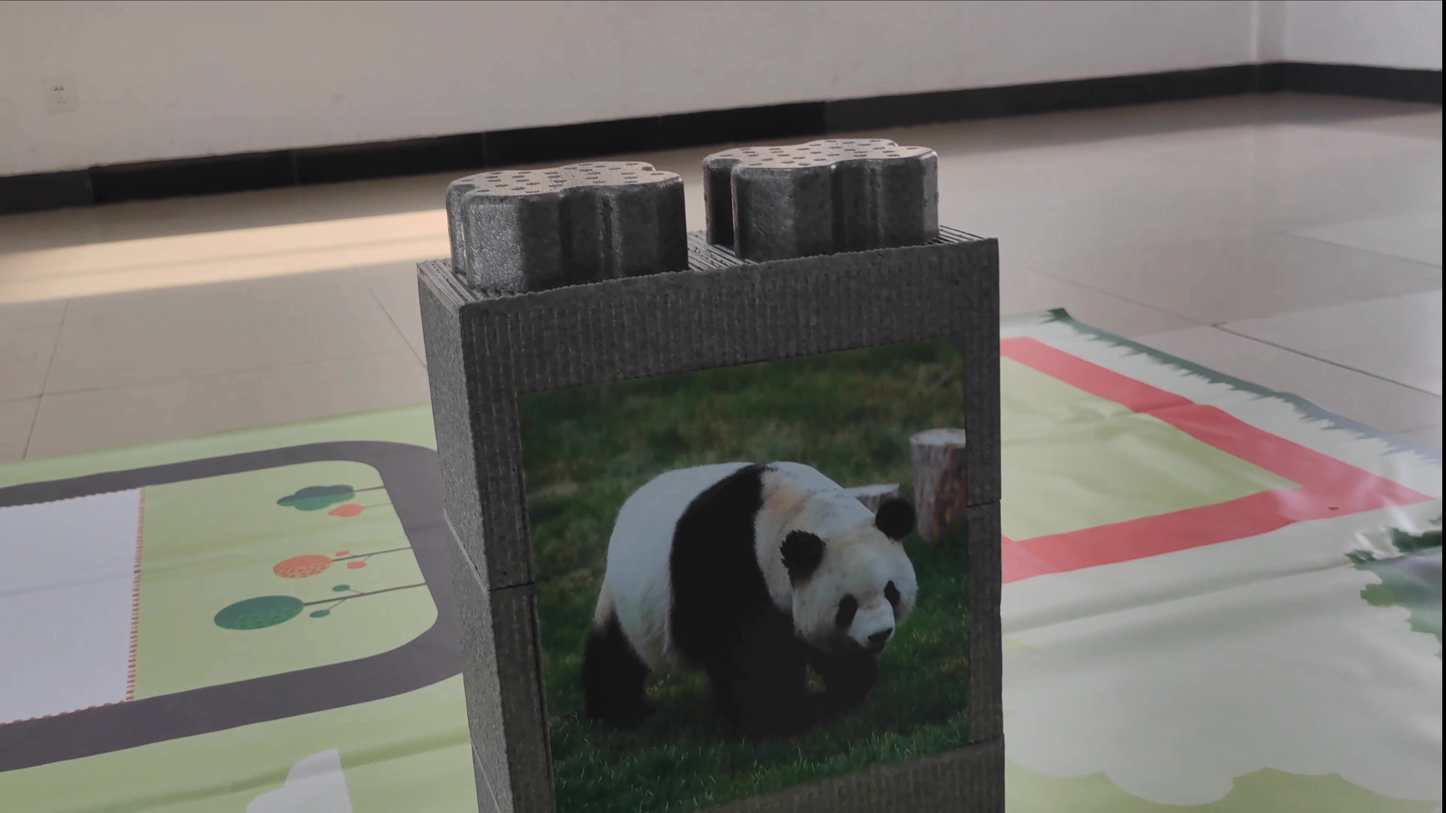panda: (550, 417, 932, 757)
